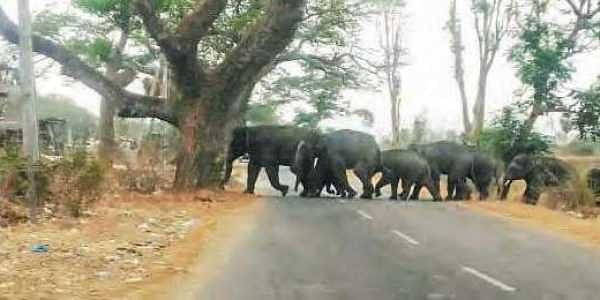Elephant: (223, 123, 328, 193), (297, 130, 379, 201), (507, 149, 583, 210), (406, 142, 474, 205), (367, 146, 440, 199), (464, 149, 502, 204)
Road: (179, 197, 598, 300)
